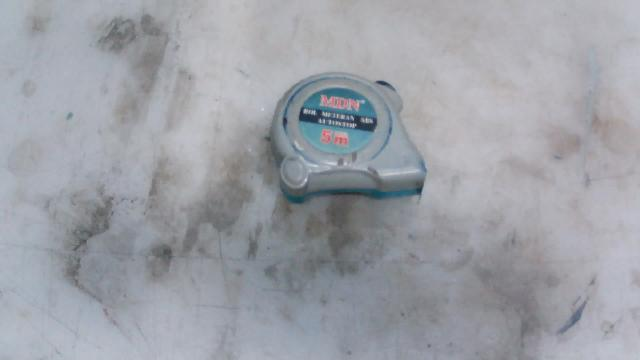meteran: (208, 46, 454, 210)
